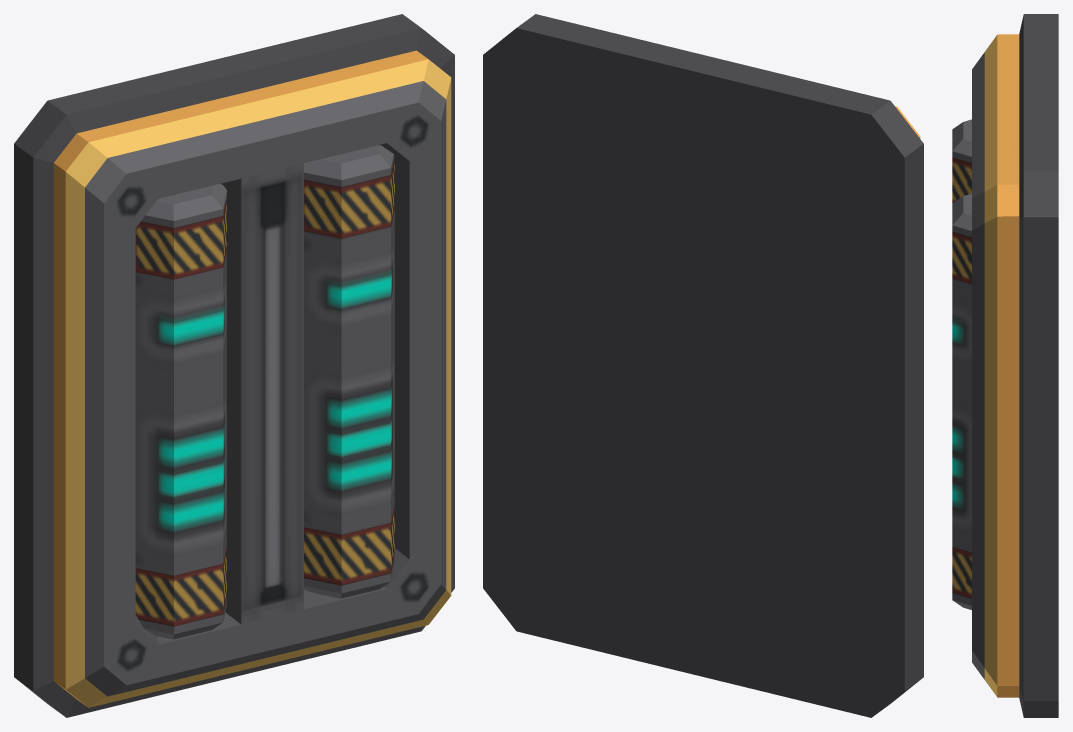
Rendered from SM_Prop_Greebles_07.fbx.
3 views of the same model, side by side, from view 1: azimuth 30°, elevation 25°; view 2: azimuth 150°, elevation 25°; view 3: azimuth 270°, elevation 25° (orthographic). The views are drawn at different scales.
Parts seen in each view (by area): view 1: SM_Prop_Greebles_07; view 2: SM_Prop_Greebles_07; view 3: SM_Prop_Greebles_07.
Boxes of the visible parts, left/top/right/bottom form: SM_Prop_Greebles_07: left=14, top=14, right=454, bottom=717; SM_Prop_Greebles_07: left=483, top=14, right=923, bottom=717; SM_Prop_Greebles_07: left=952, top=14, right=1058, bottom=717.
Size of the model in its own units: 80.17 by 110 by 19.3.
